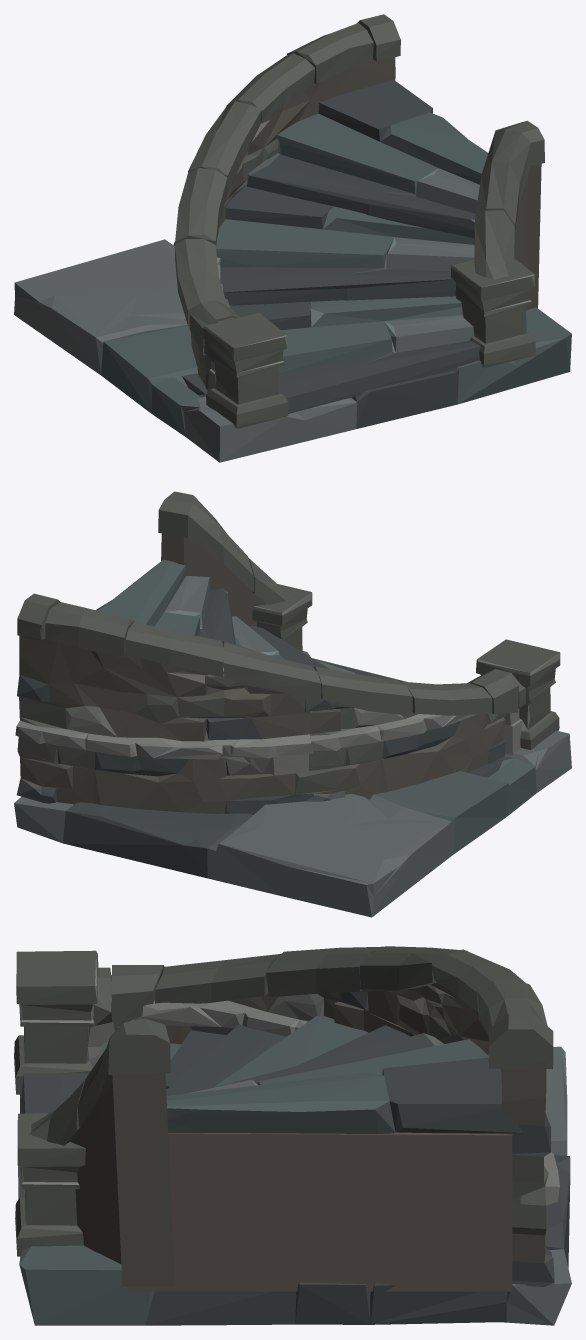
Rendered from MDungeons_Steps_Curved_90.FBX.
The picture shows the model from 3 angles, top to bottom: view 1: azimuth 30°, elevation 25°; view 2: azimuth 150°, elevation 25°; view 3: azimuth 270°, elevation 25°; orthographic projection. The views are drawn at different scales.
Parts seen in each view (by area): view 1: MDungeons_Steps_Curved_90_LOD0; view 2: MDungeons_Steps_Curved_90_LOD0; view 3: MDungeons_Steps_Curved_90_LOD0.
Part boxes in pixels (<box>): MDungeons_Steps_Curved_90_LOD0: <box>14,14,571,462</box>; MDungeons_Steps_Curved_90_LOD0: <box>14,491,571,917</box>; MDungeons_Steps_Curved_90_LOD0: <box>14,946,571,1325</box>.
Size of what is drawn, in the model's own units: 6.1 by 3.56 by 6.06.
